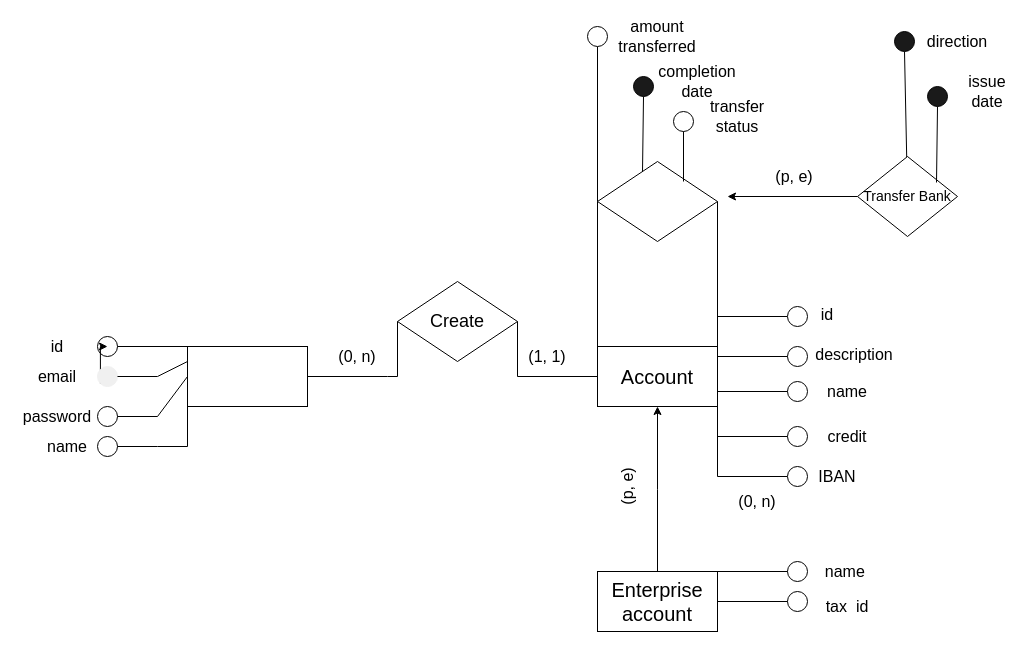
This 1034x649 diagram has some shape labels left out. The shapes that lost their labels are listed below. From the top down, each one's centre as x and y in pixels, then its label:
(x=657, y=201): Transfer credit
(x=247, y=376): User
